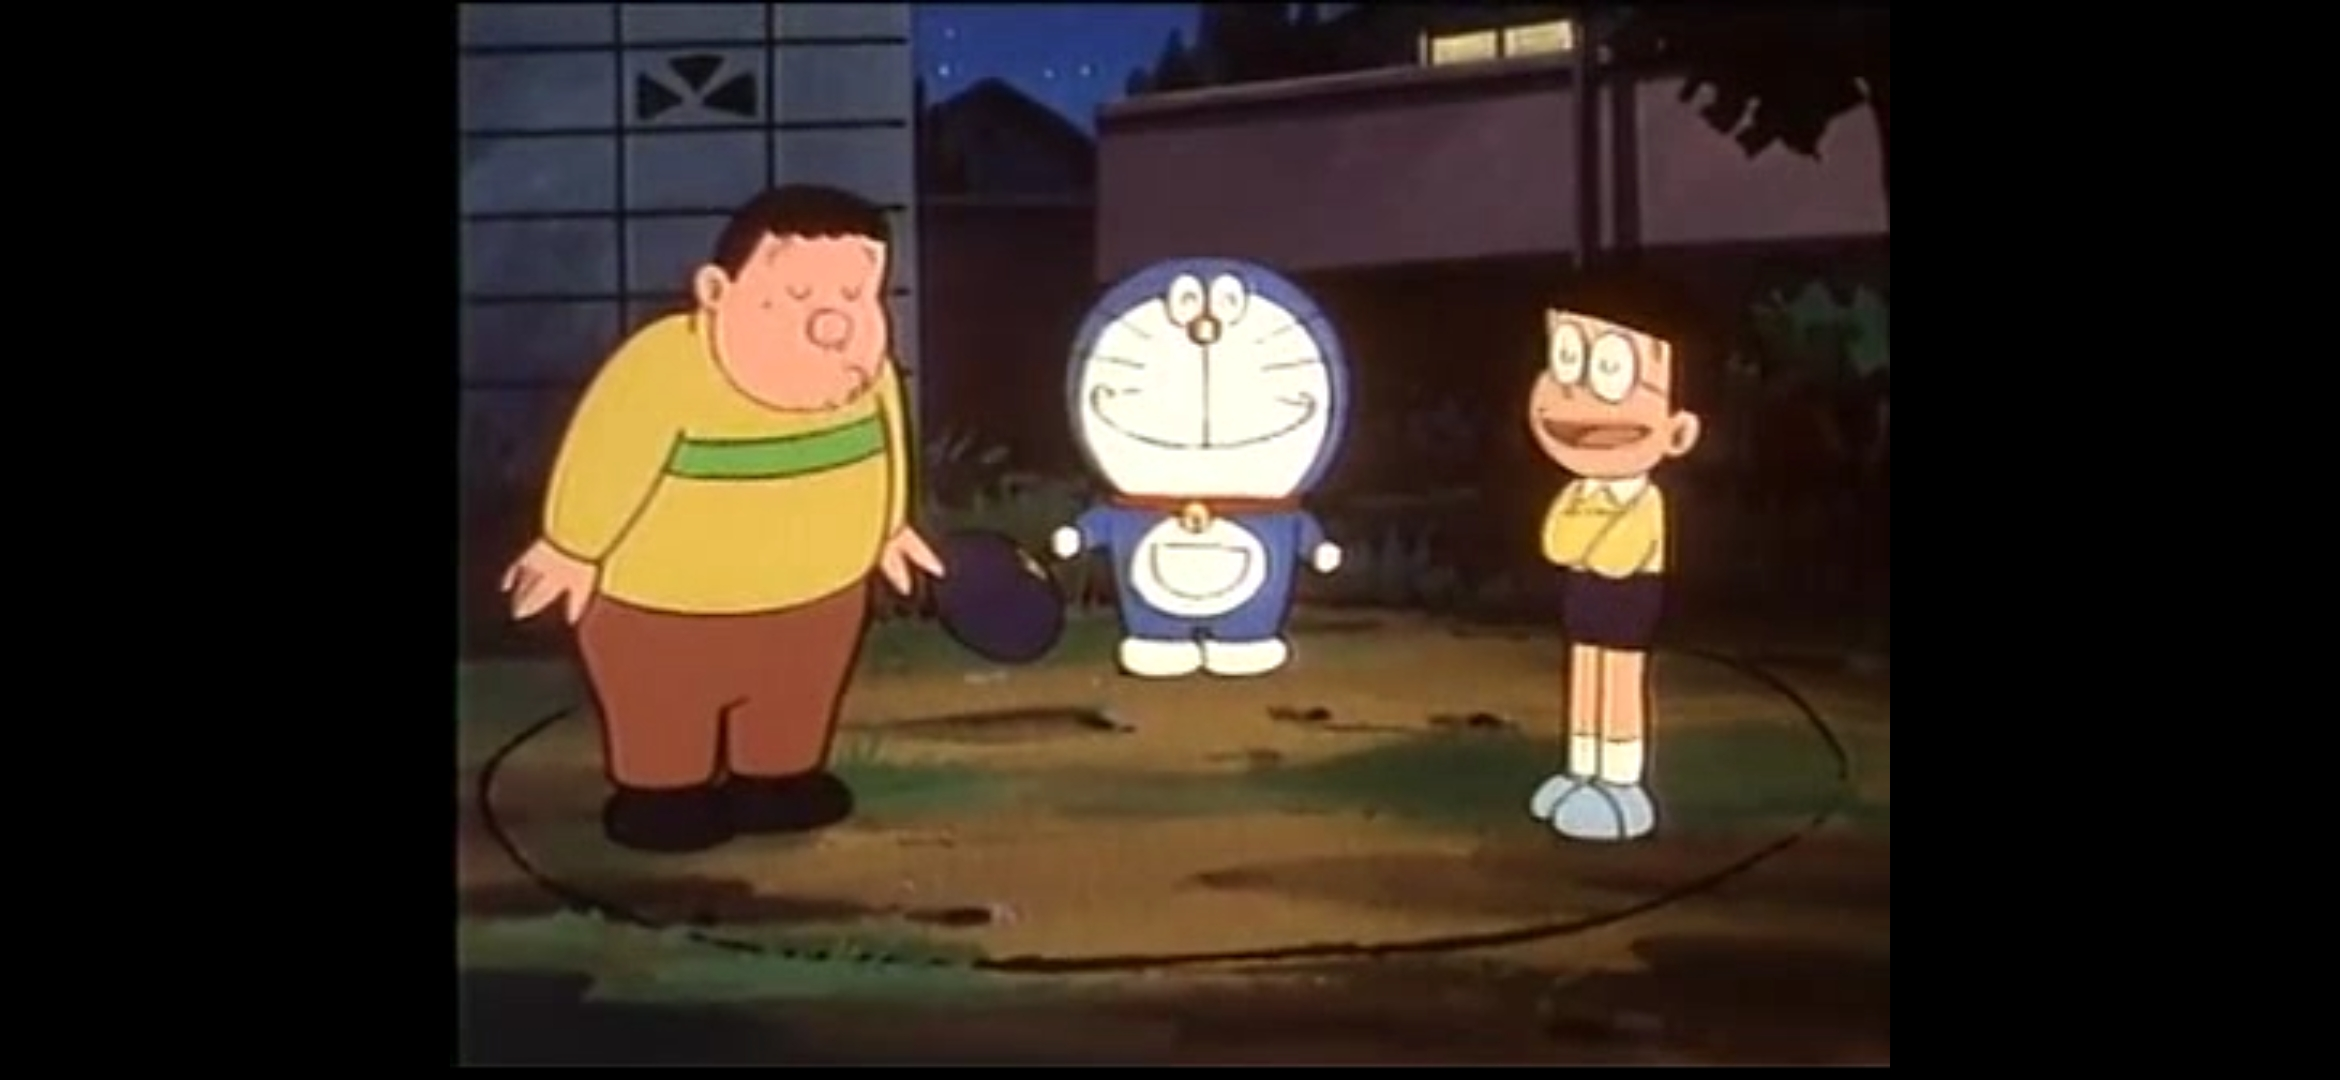Doraemon: (1064, 254, 1348, 533)
Nobi: (1527, 277, 1698, 477)
Takeshi: (694, 185, 889, 413)
